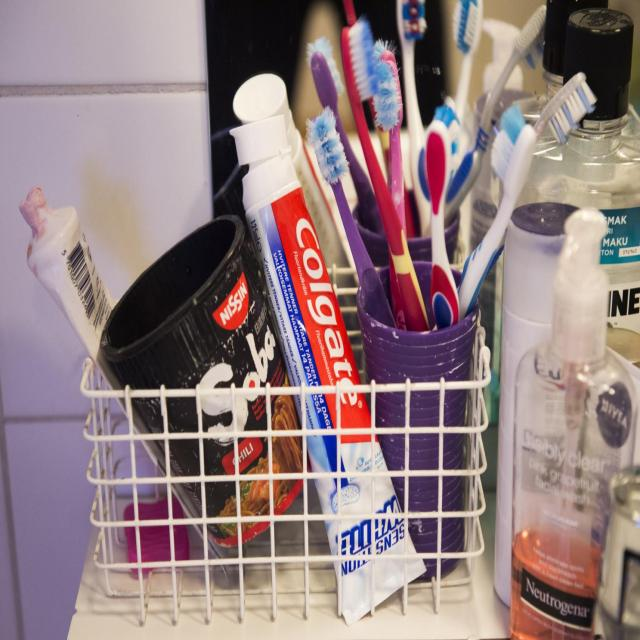Toothpaste: (228, 109, 430, 620)
